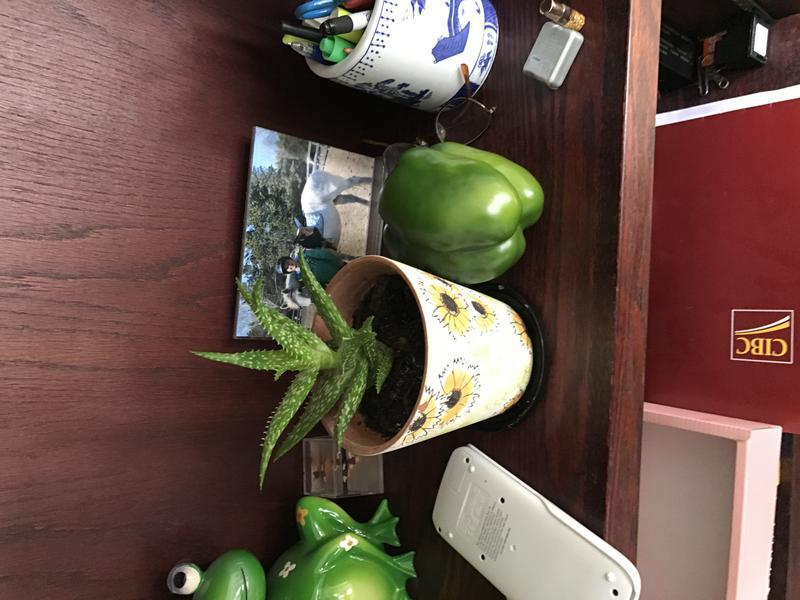green_pepper: (373, 130, 559, 296)
